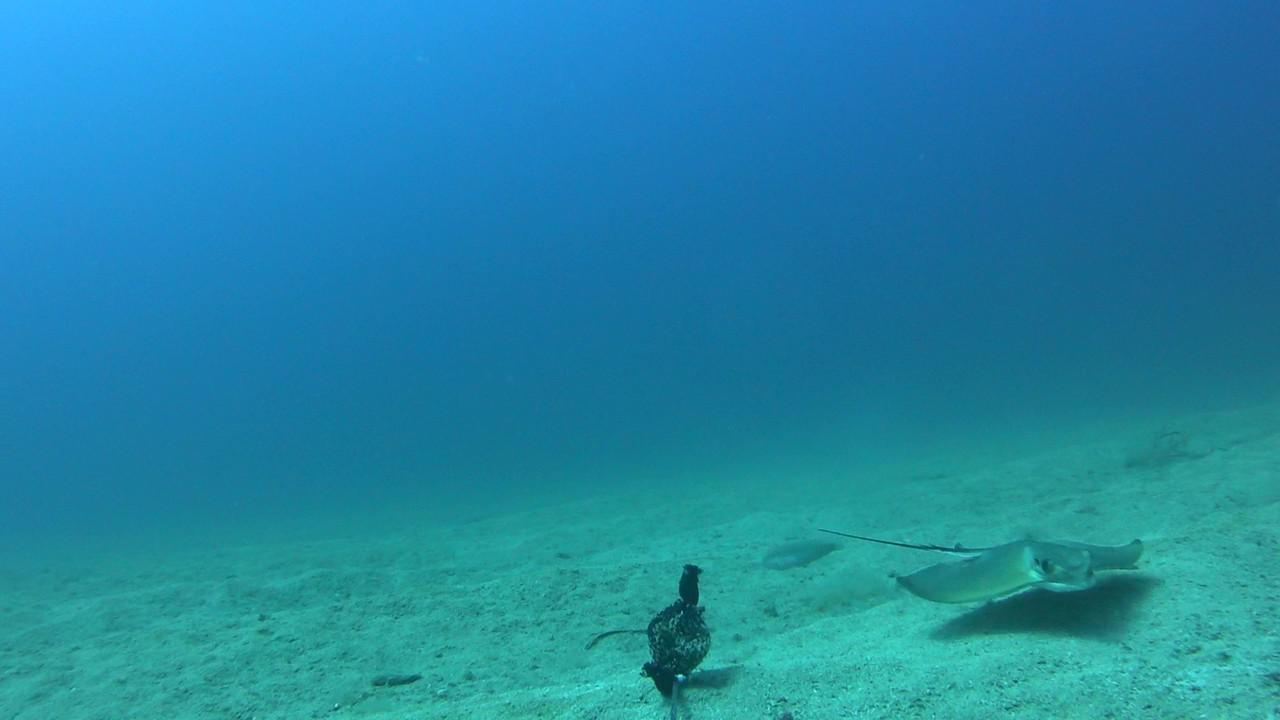myliobatis: (805, 501, 1161, 619)
raor: (758, 540, 848, 577)
